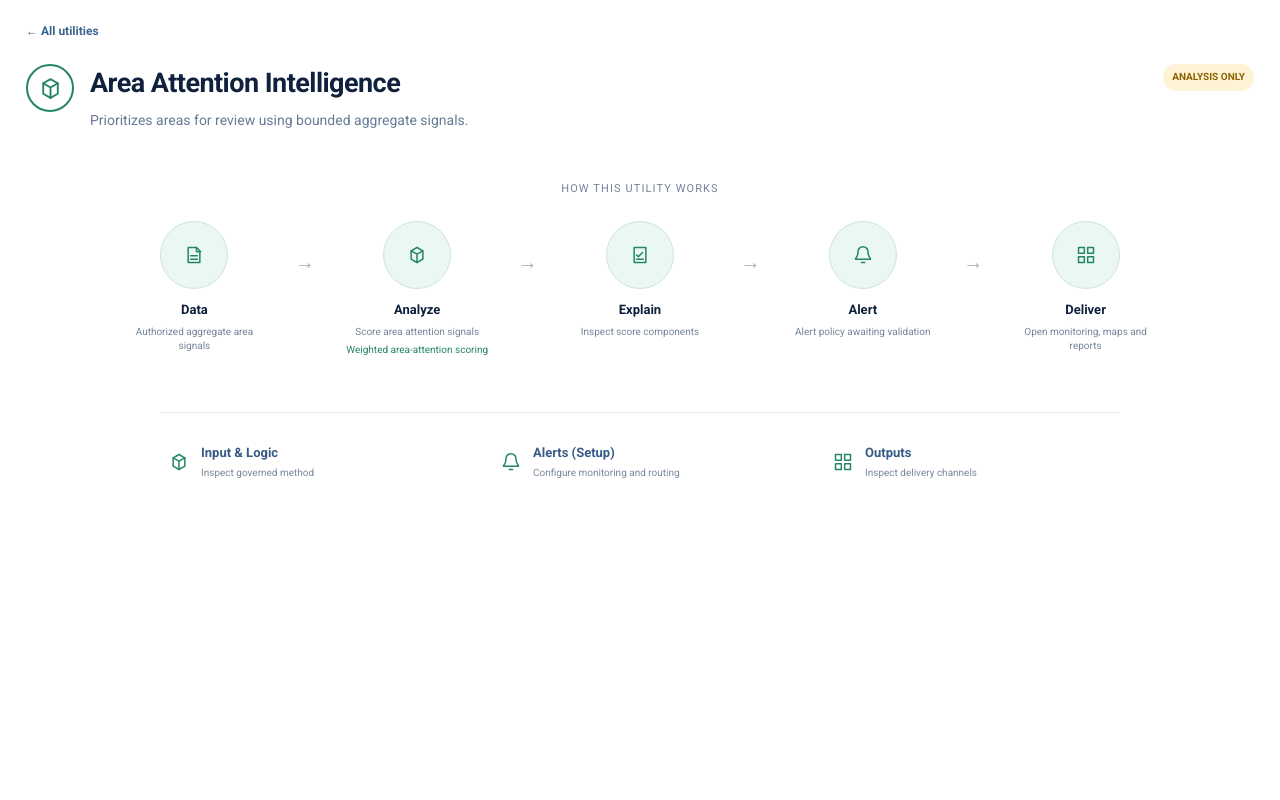
renders the server-defined lifecycle before progressively revealing one selected definition panel
Expected: the heading "Area Attention Intelligence" is shown, left=90, top=67, right=400, bottom=99
Expected: the number of list items is 5, left=136, top=221, right=253, bottom=351; left=346, top=221, right=488, bottom=355; left=581, top=221, right=699, bottom=337; left=795, top=221, right=930, bottom=337; left=1024, top=221, right=1147, bottom=351
Click the button "Input & Logic Inspect governed method": (240, 452) left=160, top=435, right=456, bottom=489
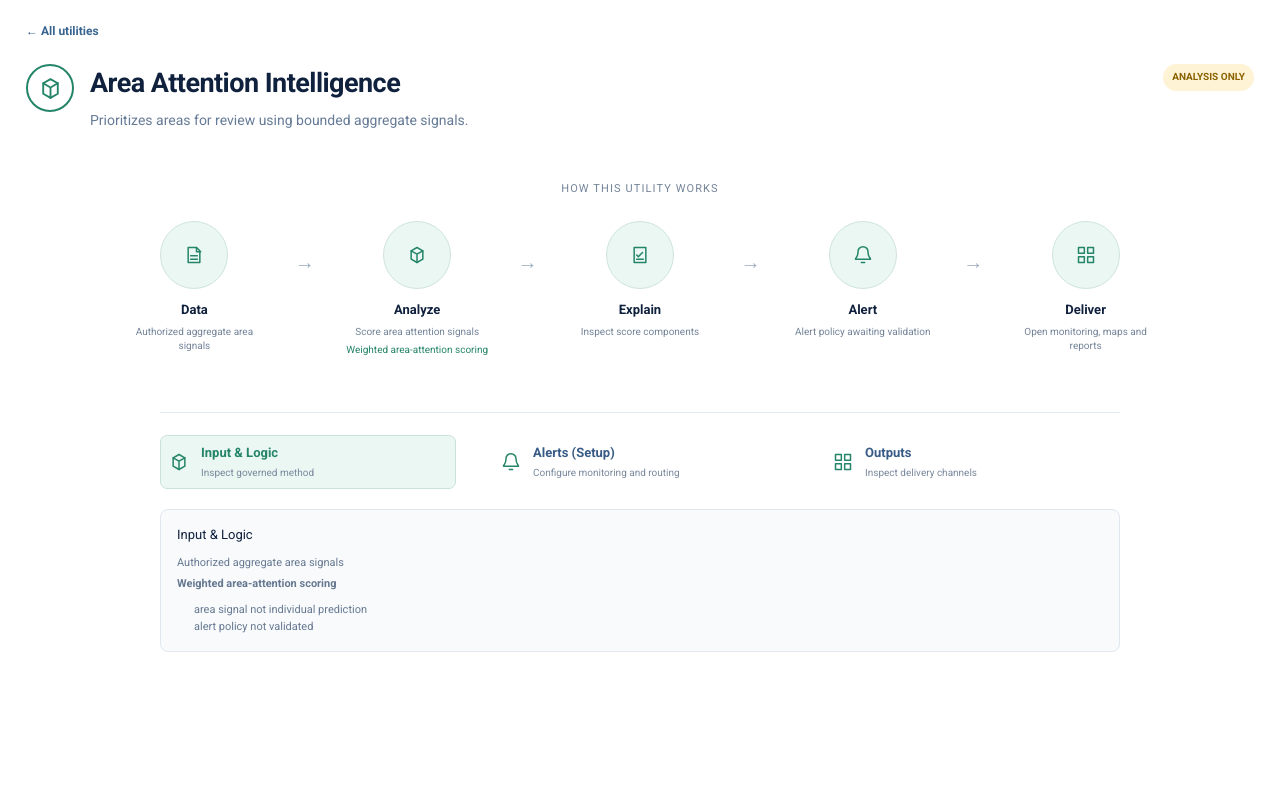
Result: the button "Input & Logic Inspect governed method" is expanded at left=160, top=435, right=456, bottom=489
Result: the element "Input & Logic" is shown at left=160, top=509, right=1120, bottom=652
Click the button "Alerts (Setup)": (574, 452) left=492, top=435, right=788, bottom=489
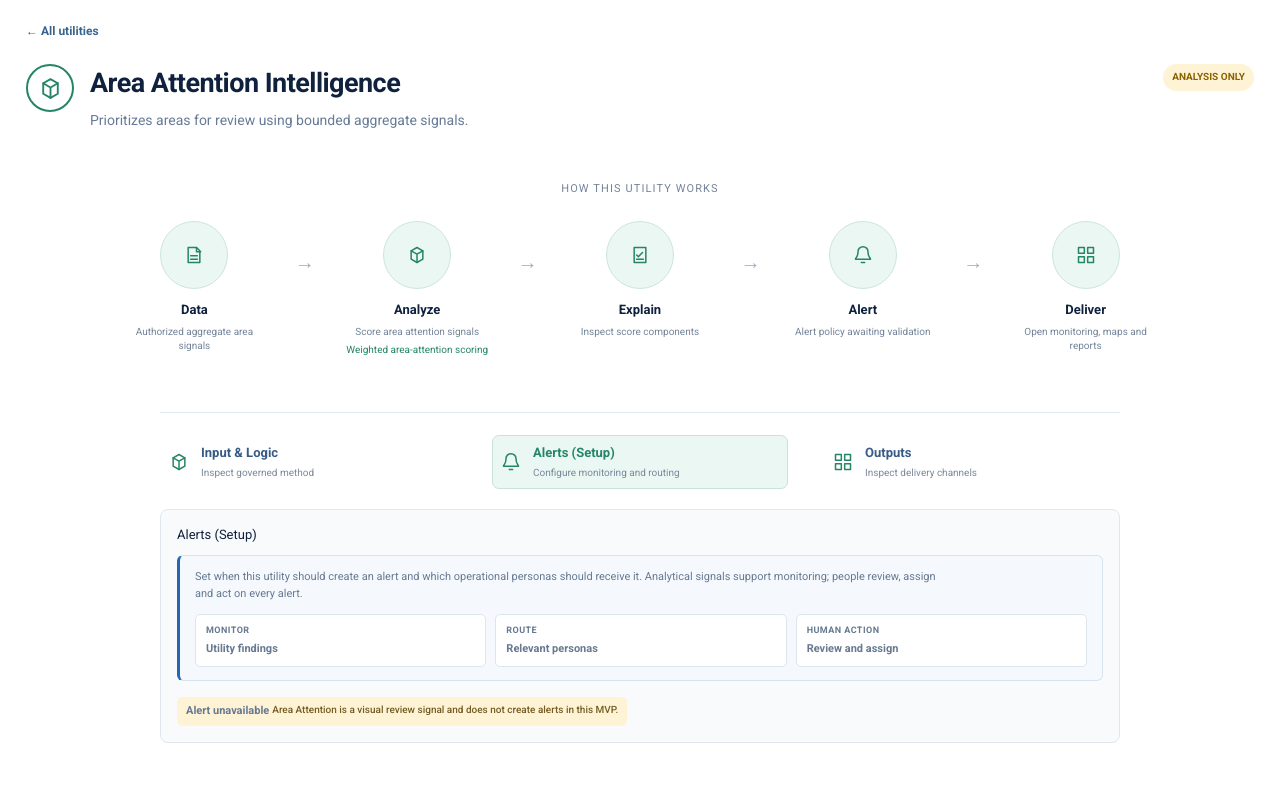
Result: the button "Alerts (Setup)" is expanded at left=492, top=435, right=788, bottom=489
Result: the button "Input & Logic Inspect governed method" is collapsed at left=160, top=435, right=456, bottom=489
Result: the element "Alerts (Setup)" shows "Alert unavailable" at left=186, top=704, right=269, bottom=717
Click the button "Outputs Inspect delivery channels": (888, 452) left=824, top=435, right=1120, bottom=489
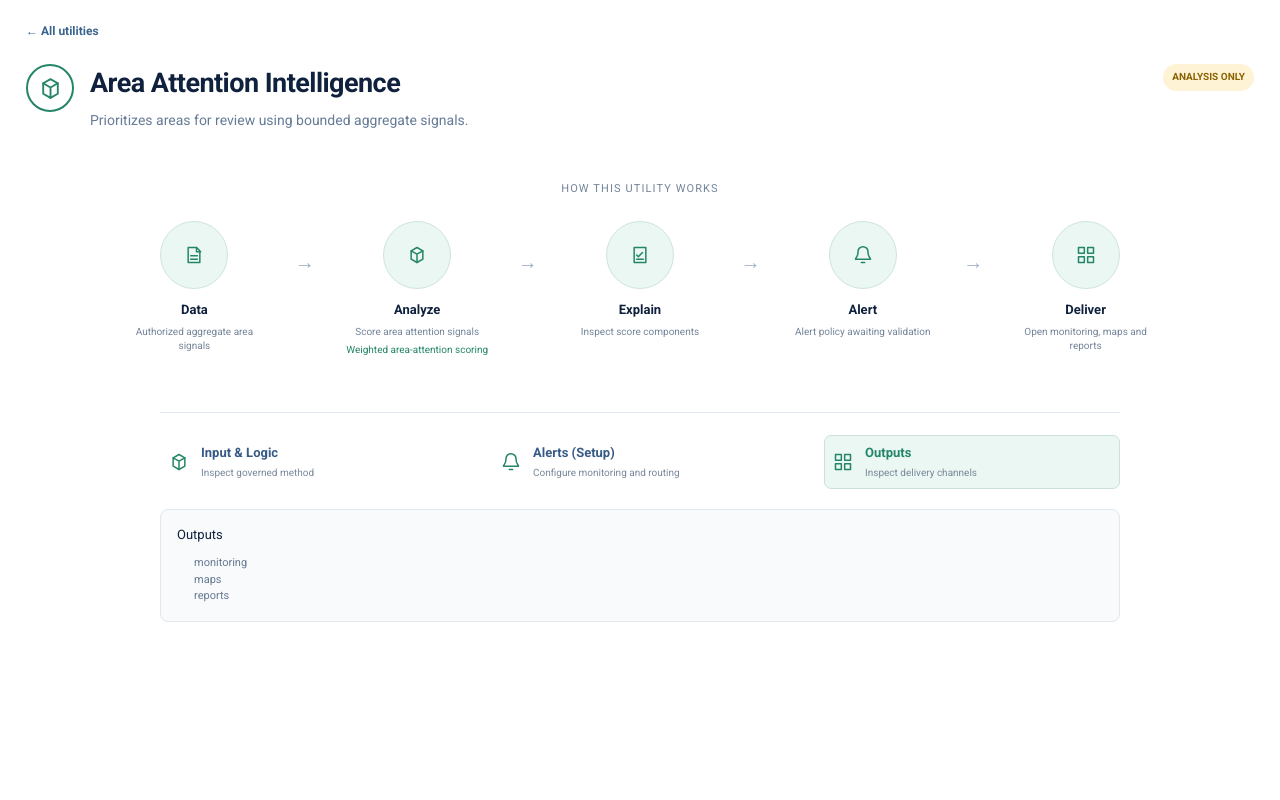
Result: the button "Outputs Inspect delivery channels" is expanded
Result: the element "Outputs" shows "monitoring" at left=194, top=556, right=247, bottom=569
Click the button "Outputs Inspect delivery channels": (888, 452) left=824, top=435, right=1120, bottom=489
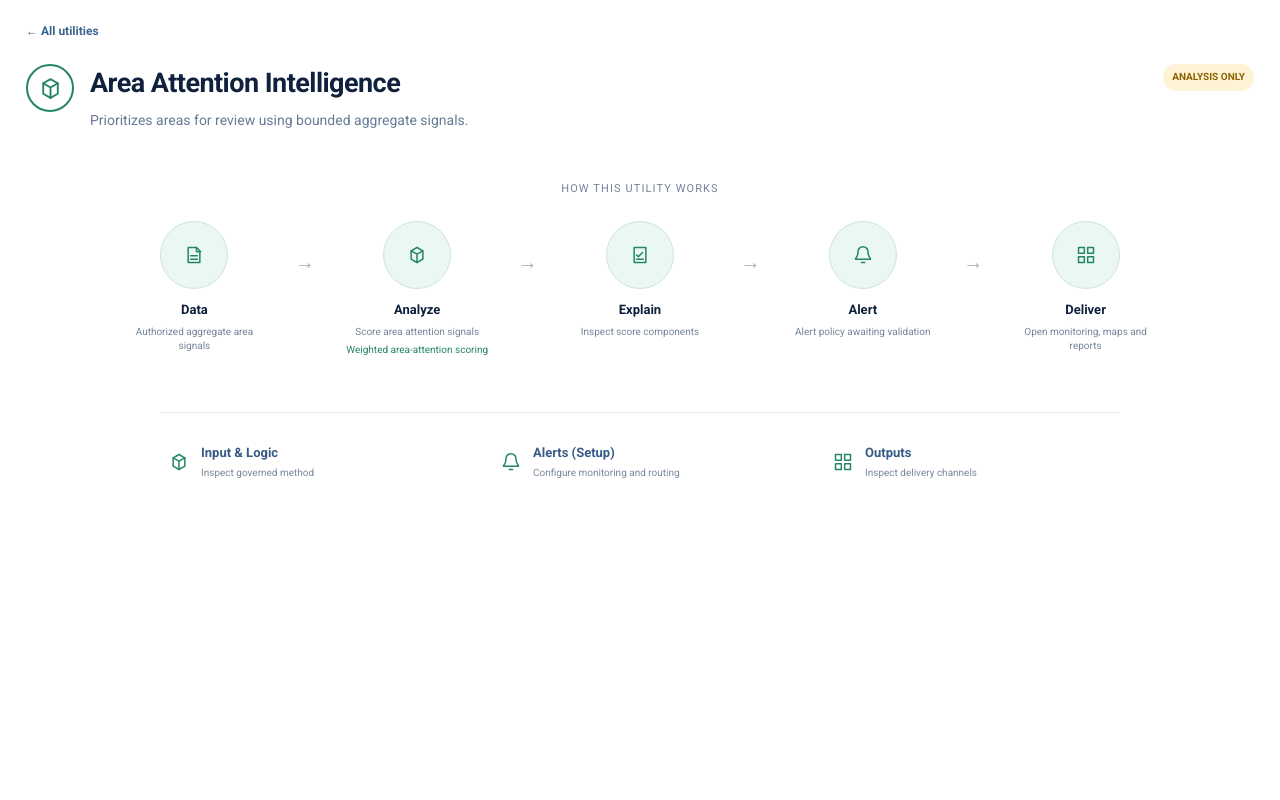
Result: the button "Outputs Inspect delivery channels" is collapsed at left=824, top=435, right=1120, bottom=489
